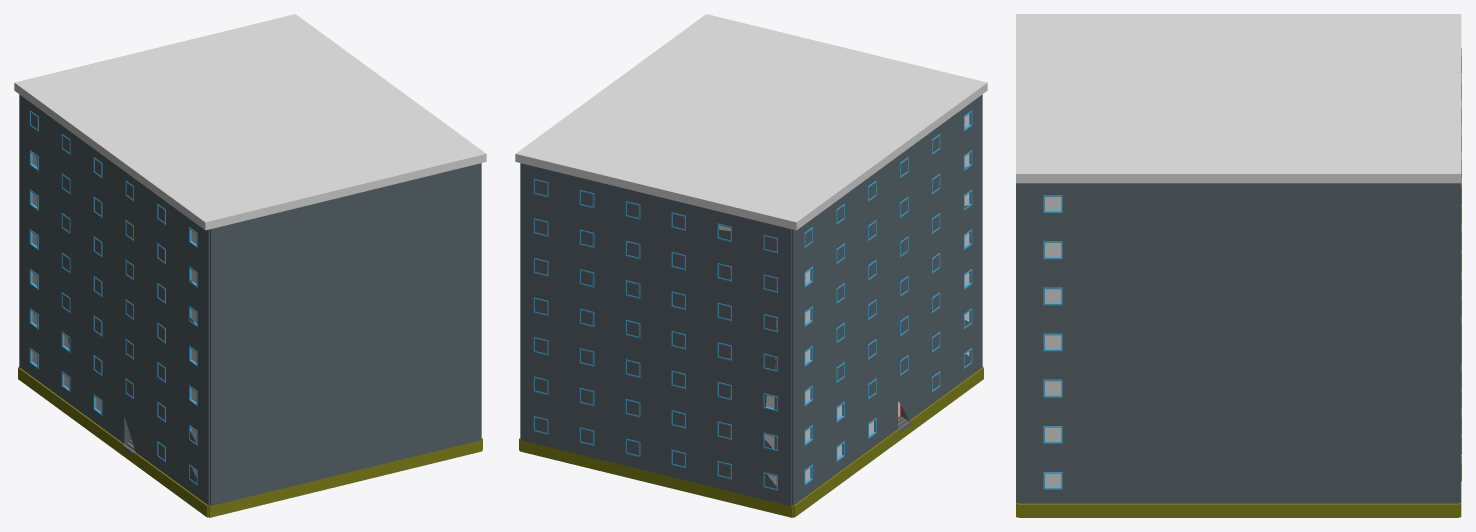
The model's file is BCC30_F07_02.fbx.
3 renders of one model, left to right at view 1: azimuth 30°, elevation 25°; view 2: azimuth 150°, elevation 25°; view 3: azimuth 270°, elevation 25°, orthographic. The views are drawn at different scales.
Visible parts, largest first — view 1: BCC30_F07_02; view 2: BCC30_F07_02; view 3: BCC30_F07_02.
Boxes of the visible parts, box(x1,y1,x2,y2) form: BCC30_F07_02: box(14, 14, 486, 517); BCC30_F07_02: box(515, 14, 987, 517); BCC30_F07_02: box(1016, 14, 1461, 517).
Bounding box in the file's own units: 2550 × 2570 × 3005.
